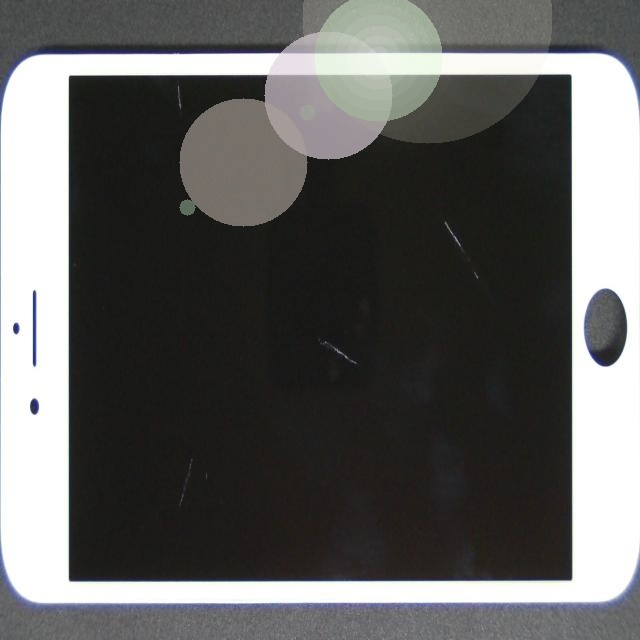scratch: (212, 193, 523, 511), (271, 189, 640, 380), (82, 94, 282, 187)
